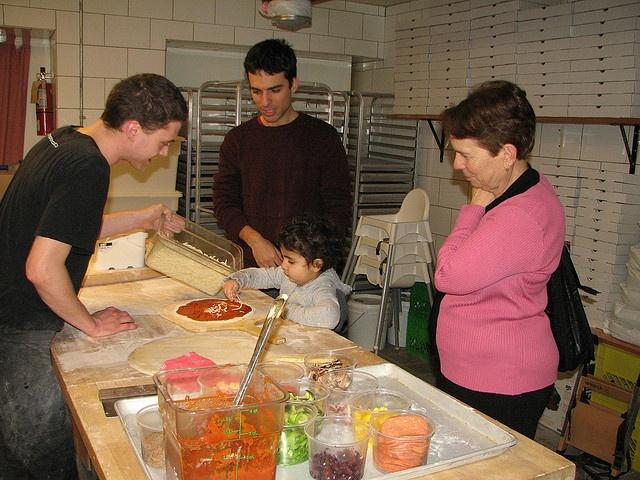Meja: (47, 270, 577, 478)
